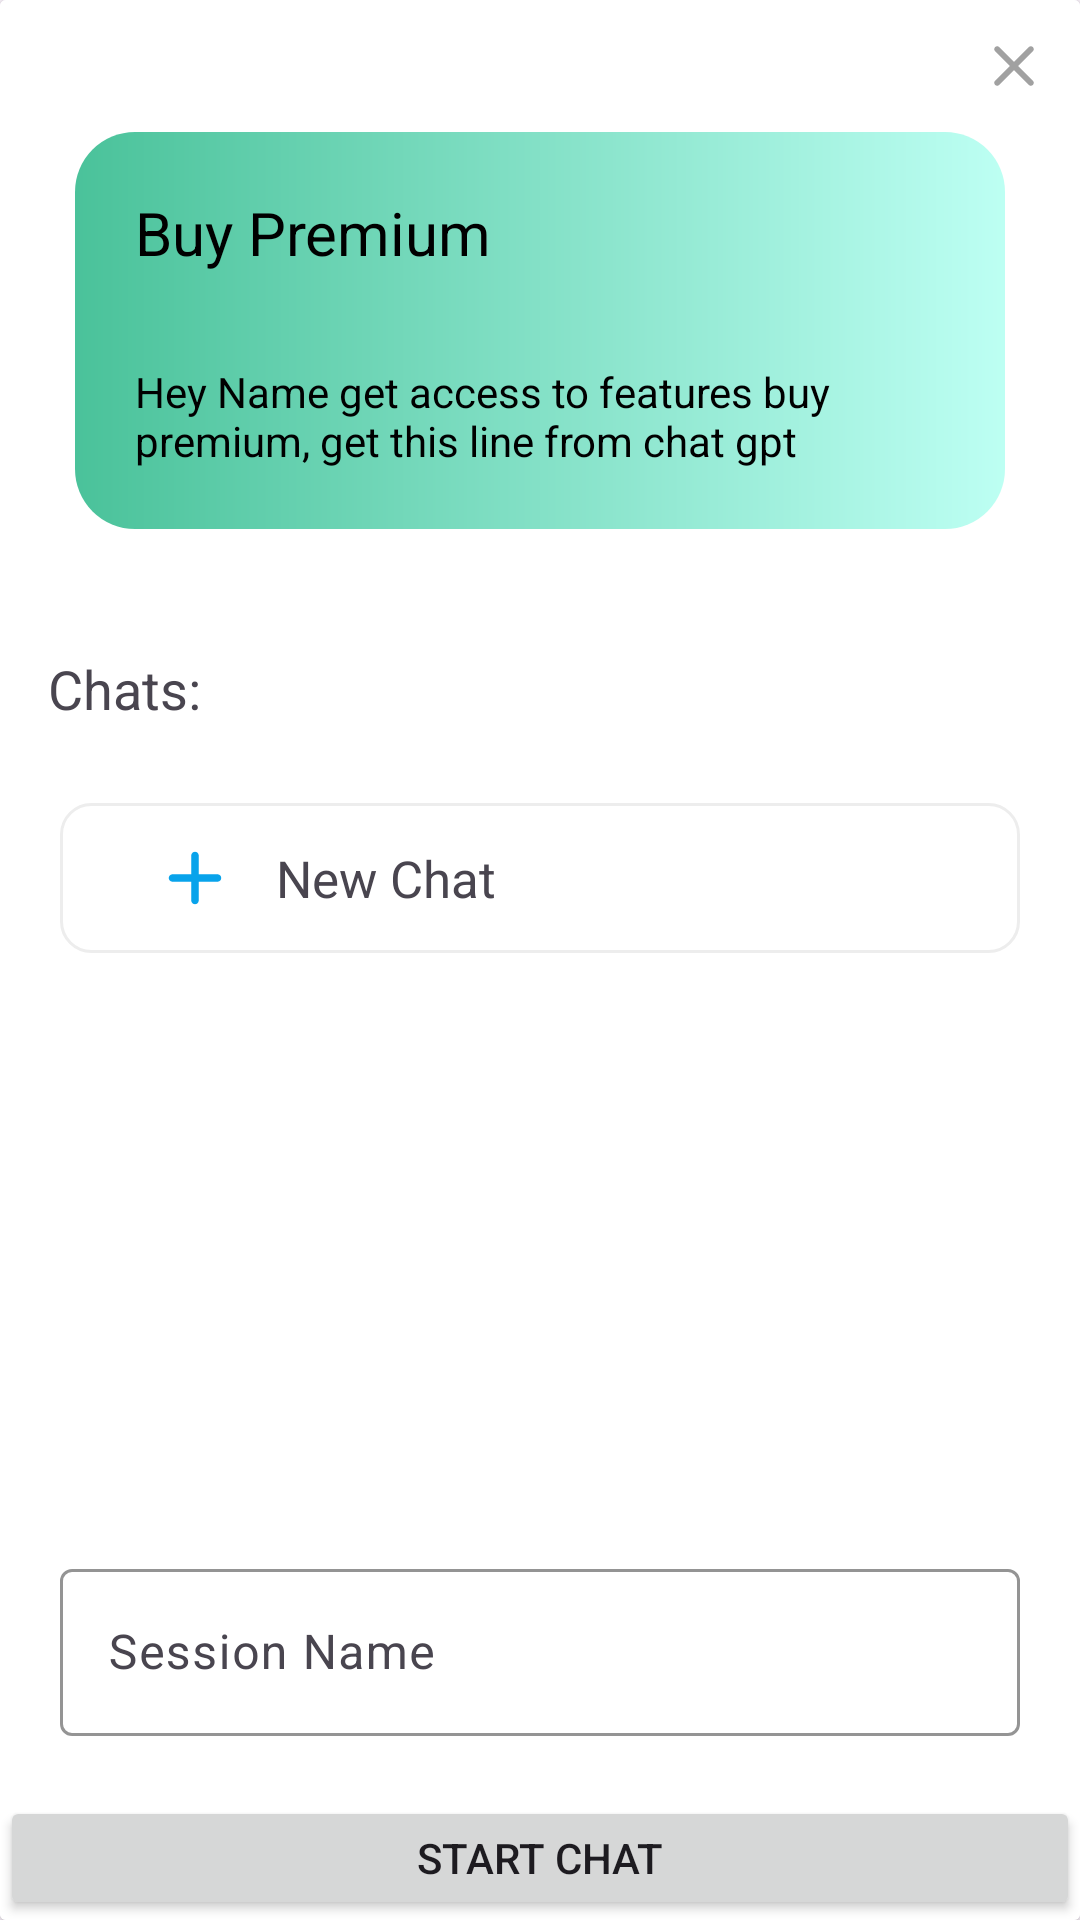

Point at icon controls on the screen. Image size 1080px x 1920px, points as (x,y).
add: (195,878)
close: (1014,66)
